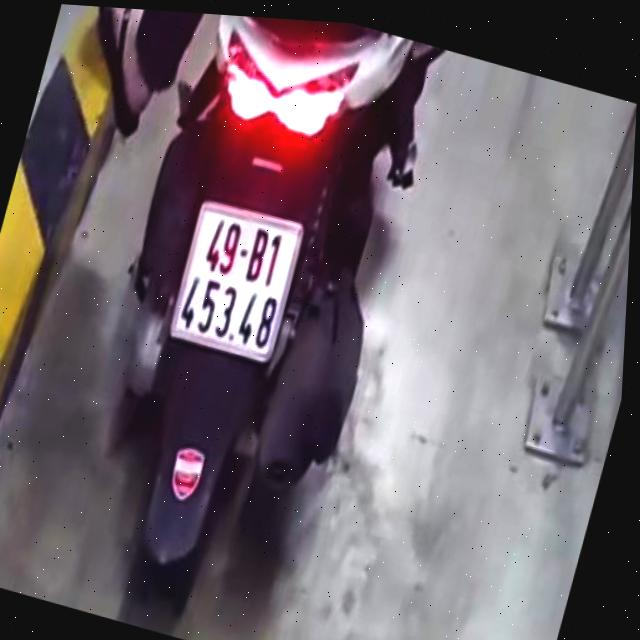motorcycle: (30, 4, 452, 640)
plate: (151, 178, 318, 375)
